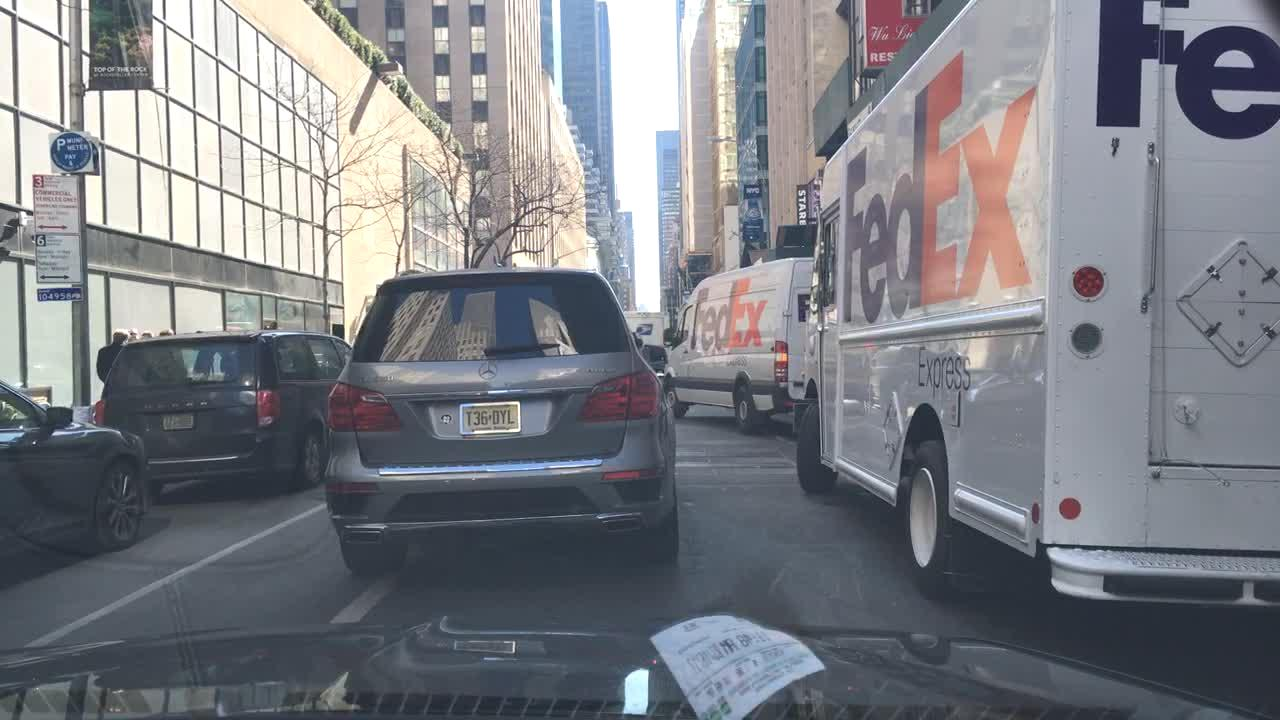Mercedes: (475, 358, 502, 382)
